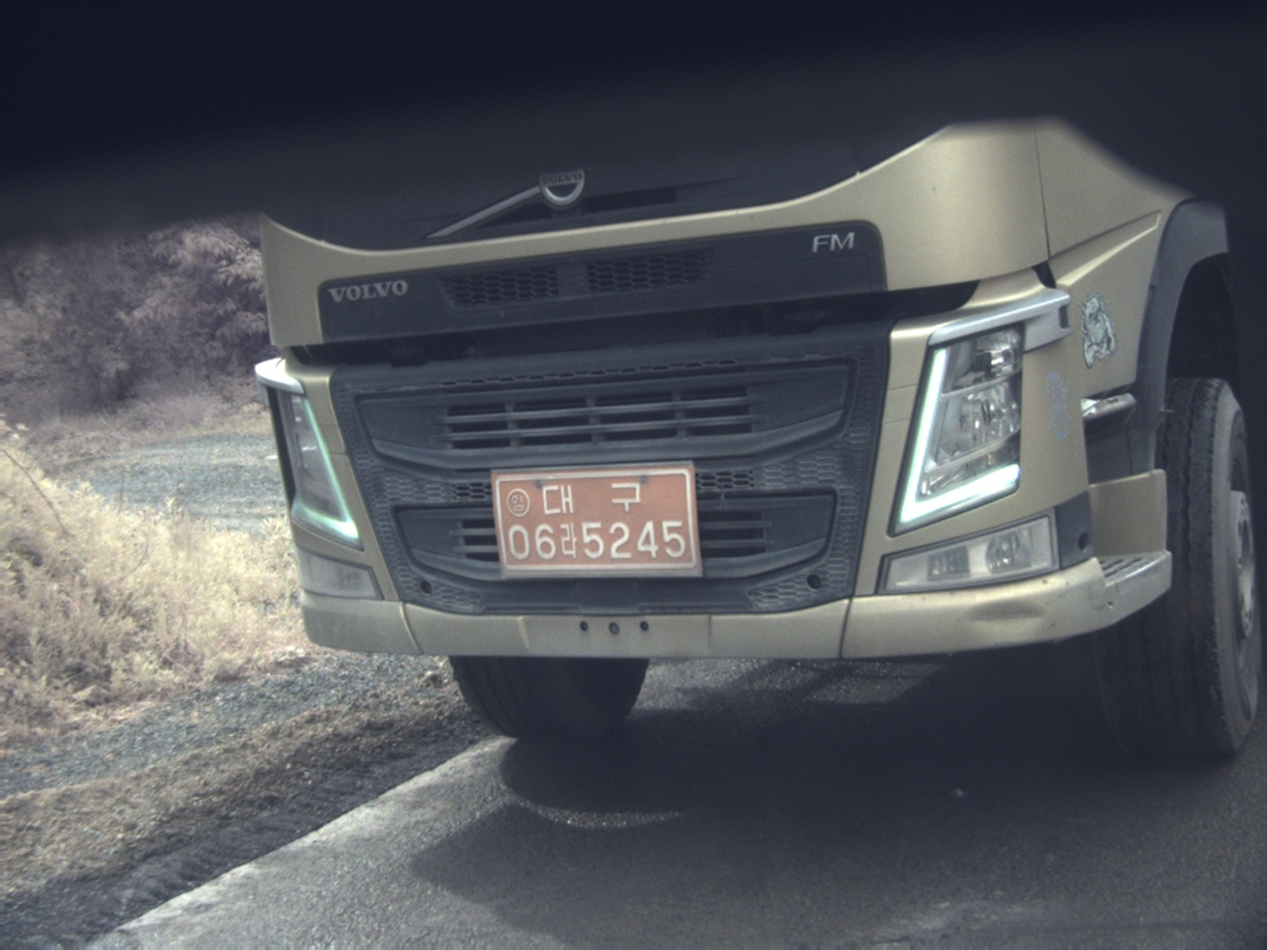license_plate: (492, 464, 700, 575)
truck: (257, 121, 1262, 751)
